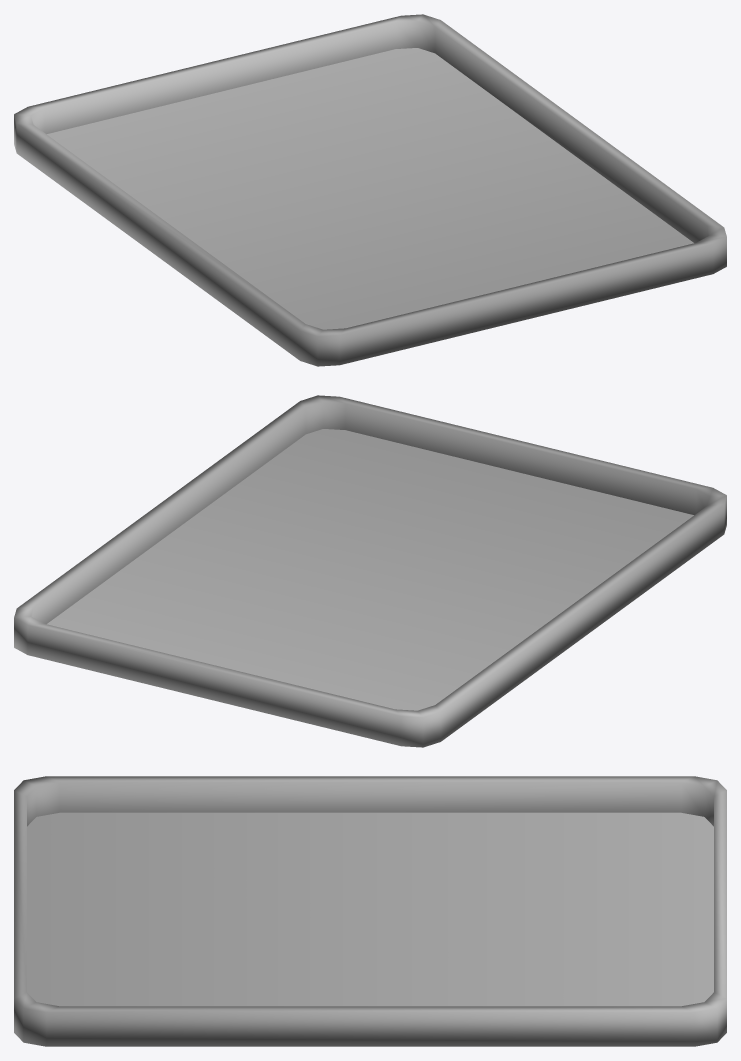
Rendered from Nampan.fbx.
The picture shows the model from 3 angles, top to bottom: view 1: azimuth 30°, elevation 25°; view 2: azimuth 150°, elevation 25°; view 3: azimuth 270°, elevation 25°; orthographic projection. The views are drawn at different scales.
Parts seen in each view (by area): view 1: Nampan_LOD0; view 2: Nampan_LOD0; view 3: Nampan_LOD0.
Part boxes in pixels (x1,y1,x2,y2): Nampan_LOD0: (14,14,726,366); Nampan_LOD0: (14,395,726,747); Nampan_LOD0: (14,776,726,1046).
Size of what is drawn, in the model's own units: 168 by 11.36 by 214.
